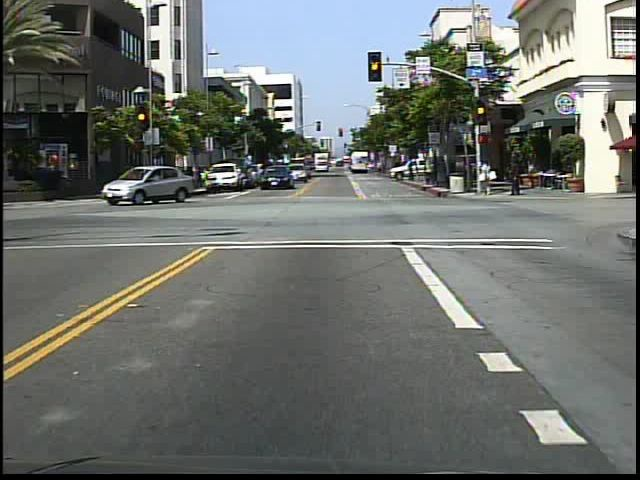person: (476, 157, 497, 200), (506, 155, 523, 197), (127, 165, 145, 198)
